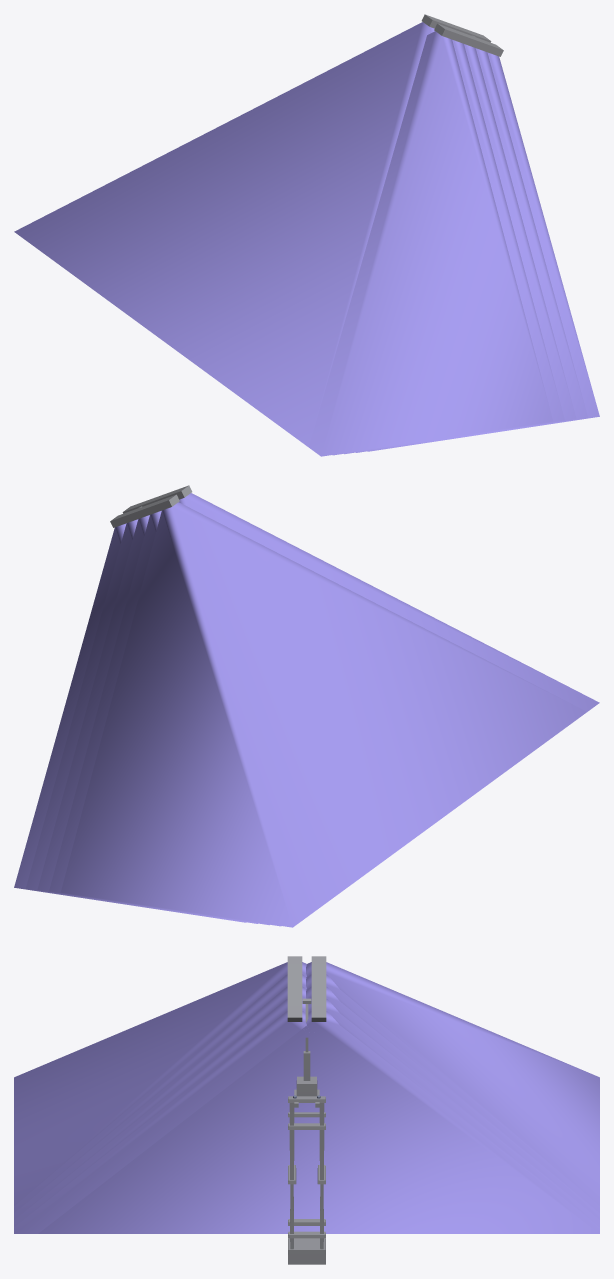
Rendered from Spotlight_Support_1A.fbx.
The picture shows the model from 3 angles, top to bottom: view 1: azimuth 30°, elevation 25°; view 2: azimuth 150°, elevation 25°; view 3: azimuth 270°, elevation 25°; orthographic projection. The views are drawn at different scales.
Visible parts, largest first — view 1: fx_Light, Spotlight_Support_1A; view 2: fx_Light, Spotlight_Support_1A; view 3: fx_Light, Spotlight_Support_1A.
Boxes of the visible parts, bbox=[...] form: fx_Light: bbox=[14, 22, 599, 456]; Spotlight_Support_1A: bbox=[421, 14, 503, 56]; fx_Light: bbox=[14, 493, 599, 927]; Spotlight_Support_1A: bbox=[110, 485, 192, 527]; fx_Light: bbox=[14, 962, 599, 1233]; Spotlight_Support_1A: bbox=[287, 956, 326, 1264].
Size of the model in its own units: 2488 by 2042 by 3918.
